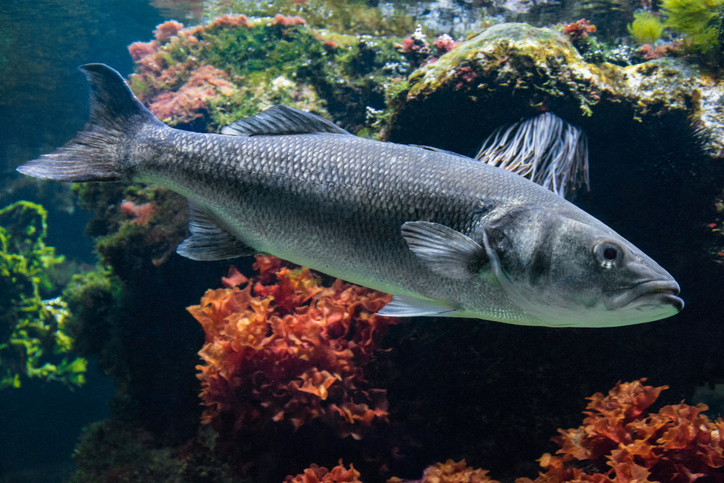Fish: (11, 60, 693, 331)
